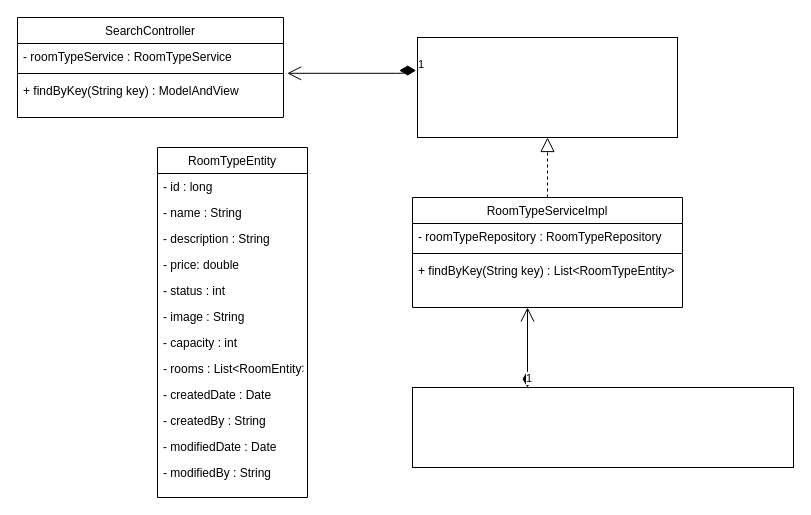
This 811x515 diagram has some shape labels left out. The shapes that lost their labels are listed below. From the top down, each one's centre as x and y in pixels, then its label:
the point at 547,87: <<Interface>> RoomTypeService + findByKey(String key) : List<RoomTypeEntity>
the point at 603,427: <<Interface>> RoomTypeRepository + findByKey(String key): List<RoomTypeEntity>
